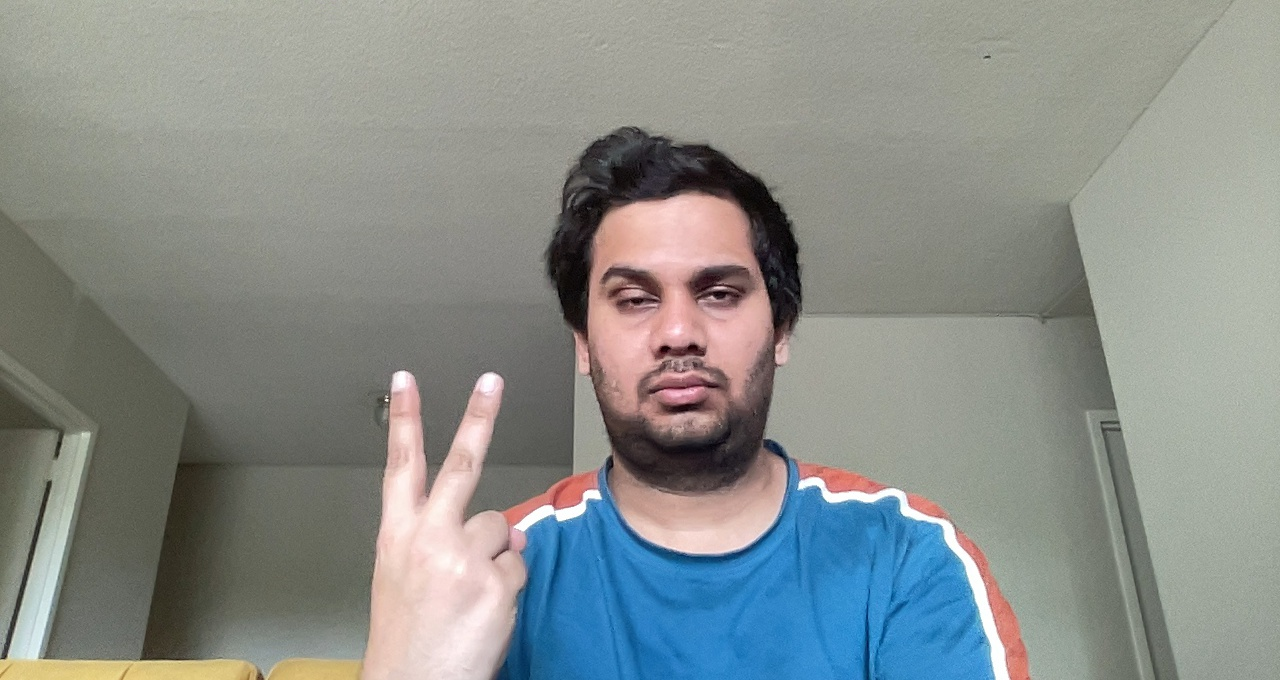peace sign: (369, 358, 533, 671)
